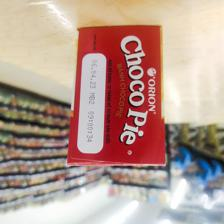Chocopie: (62, 25, 167, 168)
